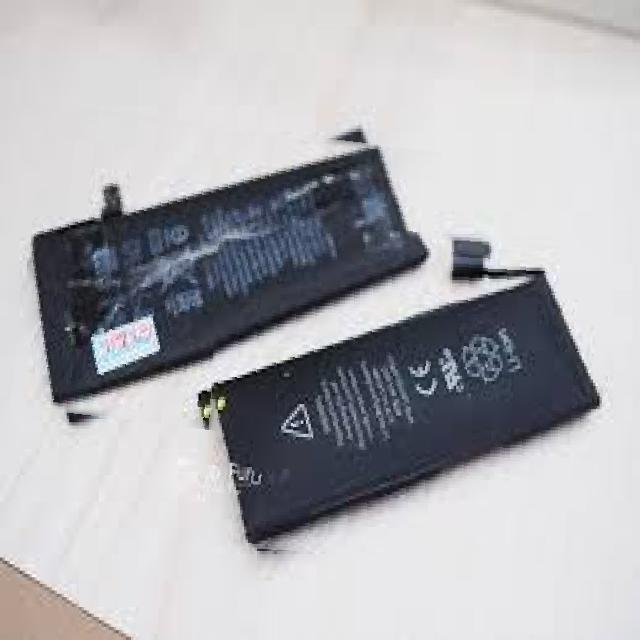Battery: (194, 268, 606, 560), (18, 139, 434, 426)
